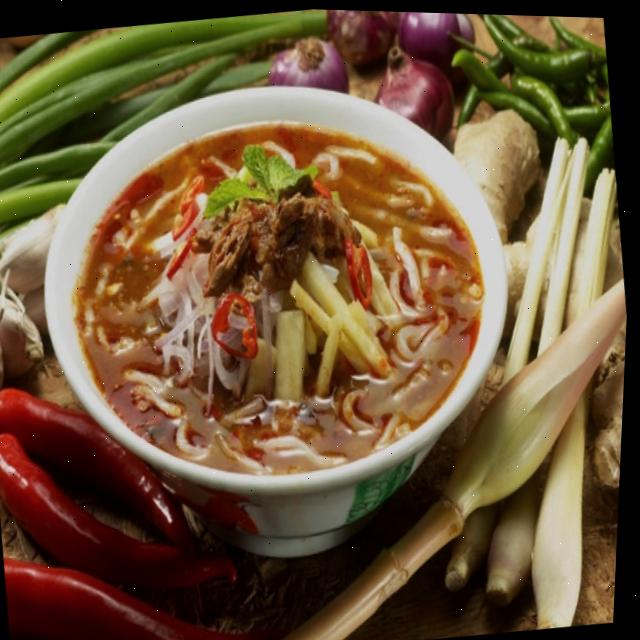面条主食: (9, 42, 545, 544)
